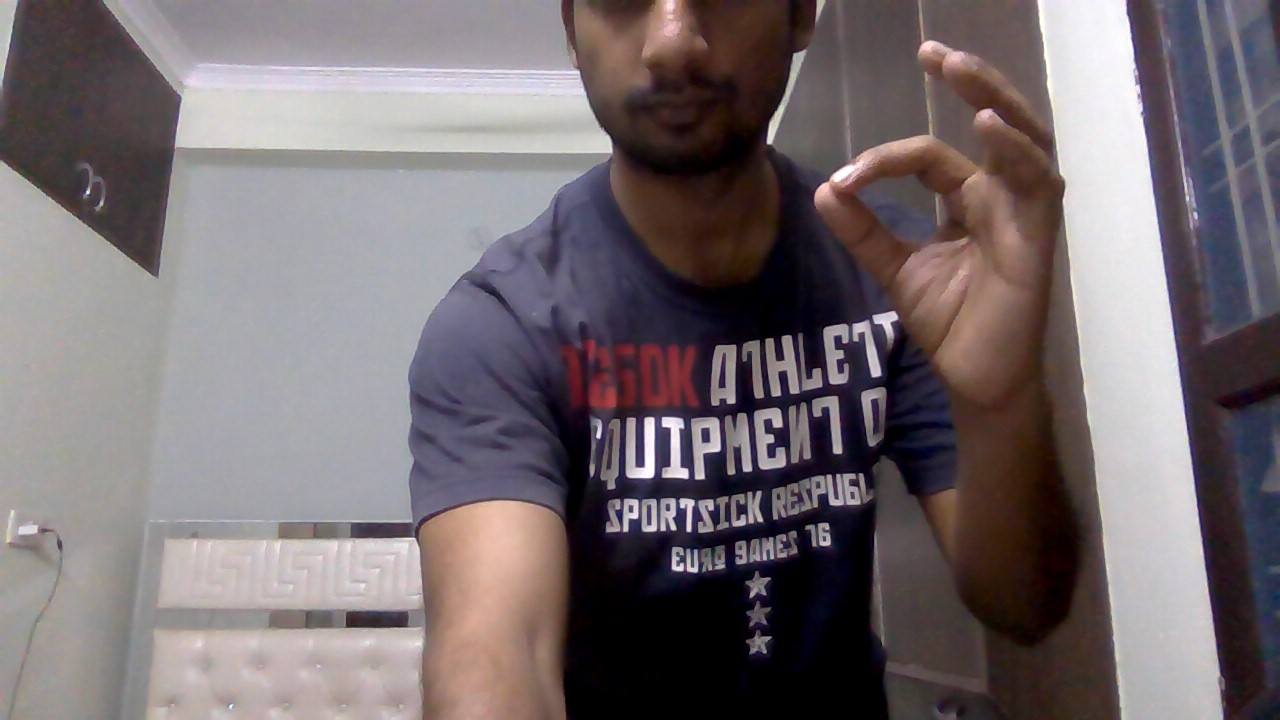Copy: (809, 24, 1070, 426)
